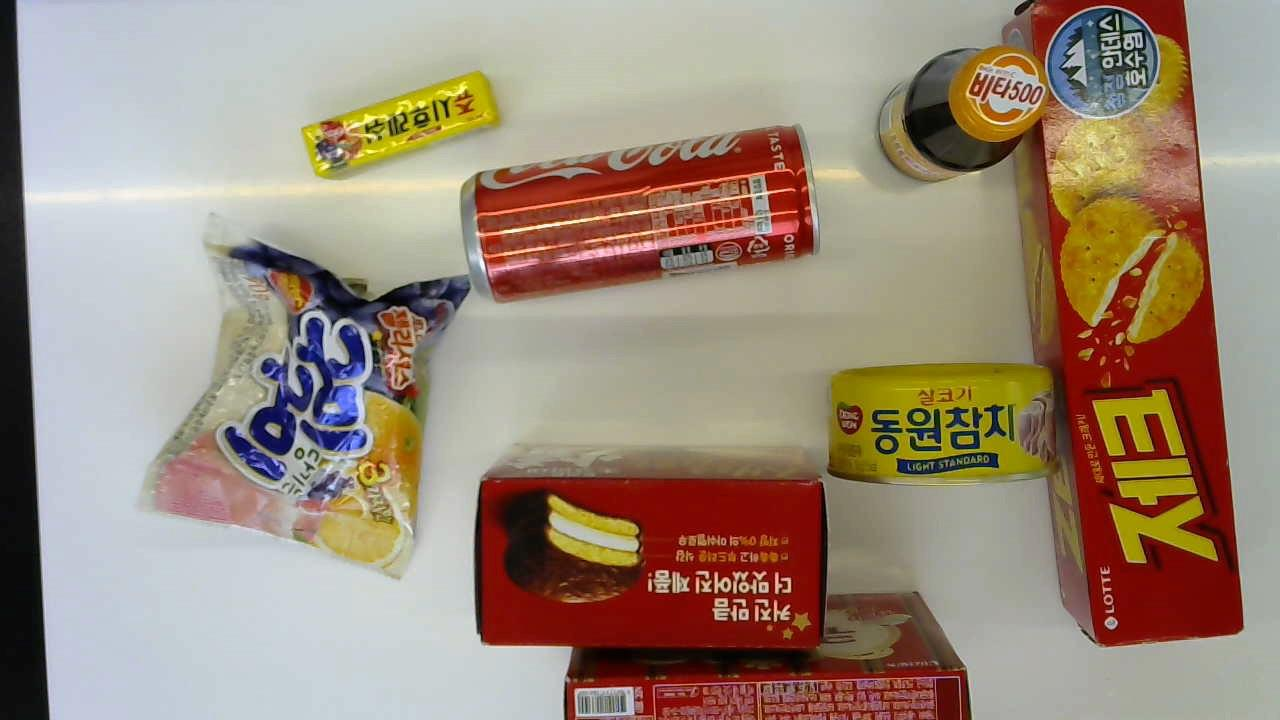chocopie: (478, 443, 821, 647)
coke: (461, 121, 821, 296)
couque_white: (566, 586, 975, 720)
gumi_gumi: (133, 212, 465, 580)
juicyfresh: (300, 72, 494, 178)
tuna: (827, 353, 1055, 483)
vita500: (871, 46, 1038, 184)
zec: (1006, 0, 1242, 649)
